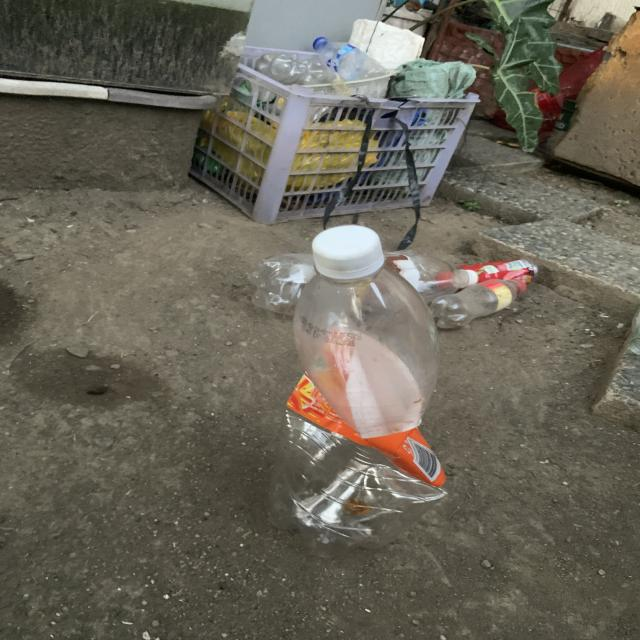Bottle: (271, 225, 446, 557)
